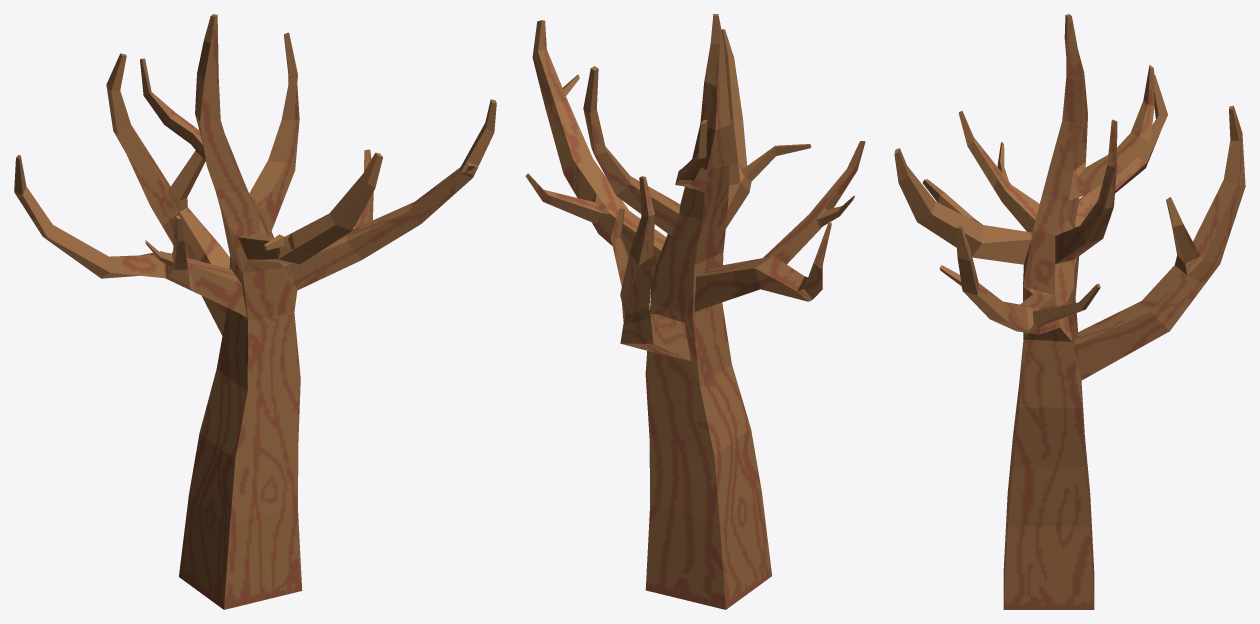
File: tree_base.fbx
The picture shows the model from 3 angles, left to right: view 1: azimuth 30°, elevation 25°; view 2: azimuth 150°, elevation 25°; view 3: azimuth 270°, elevation 25°; orthographic projection. The views are drawn at different scales.
Visible parts, largest first — view 1: Tree; view 2: Tree; view 3: Tree.
Boxes of the visible parts, left/top/right/bottom form: Tree: left=14, top=14, right=496, bottom=609; Tree: left=525, top=14, right=865, bottom=609; Tree: left=894, top=14, right=1245, bottom=609.
Bounding box in the file's own units: 980 × 1381 × 775.
